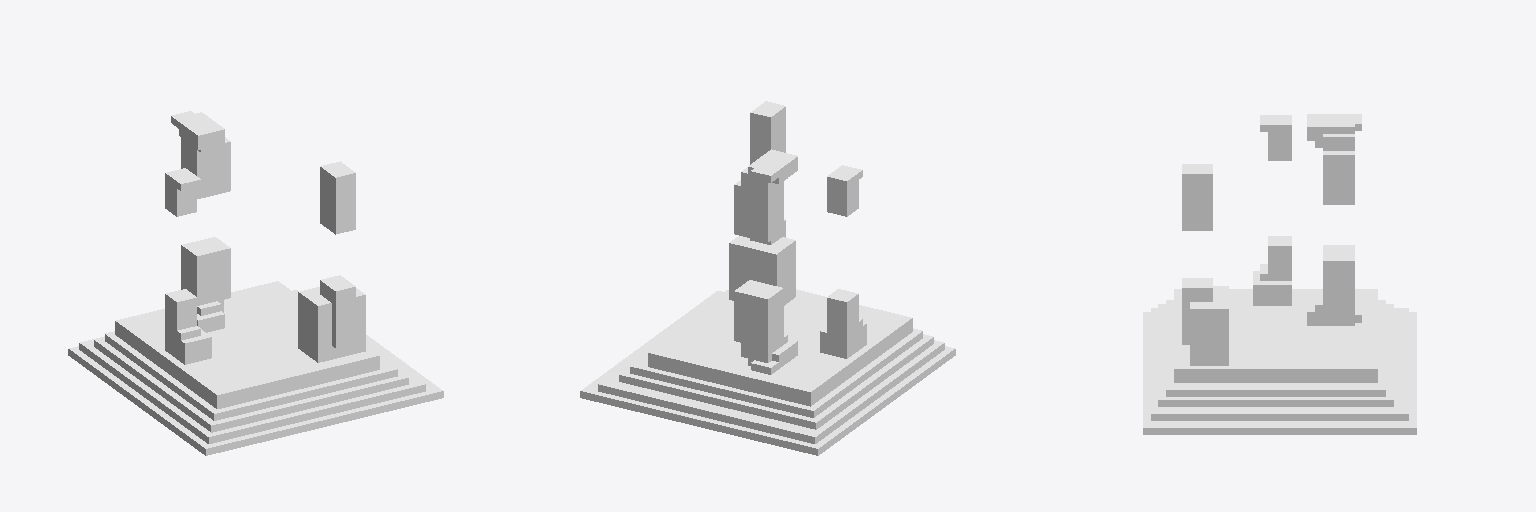
File: Gatetower-1.obj
The picture shows the model from 3 angles: view 1: azimuth 30°, elevation 25°; view 2: azimuth 150°, elevation 25°; view 3: azimuth 270°, elevation 25°; orthographic projection.
Visible parts, largest first — view 1: object 1; view 2: object 1; view 3: object 1.
Boxes of the visible parts, x1,y1,x2,y2 form: object 1: [68, 111, 443, 455]; object 1: [580, 101, 955, 455]; object 1: [1143, 114, 1416, 434].
Size of the model in its own units: 14 by 13.6 by 14.